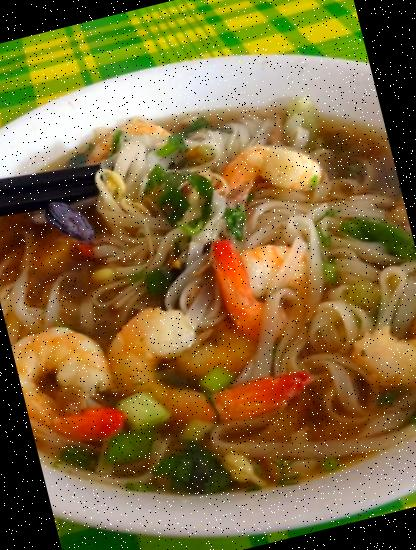Dates: (37, 188, 104, 256)
